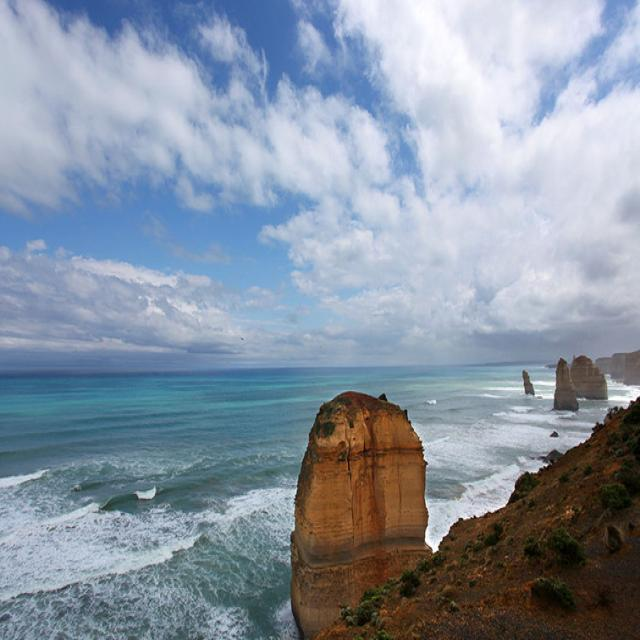reef: (284, 382, 439, 582)
